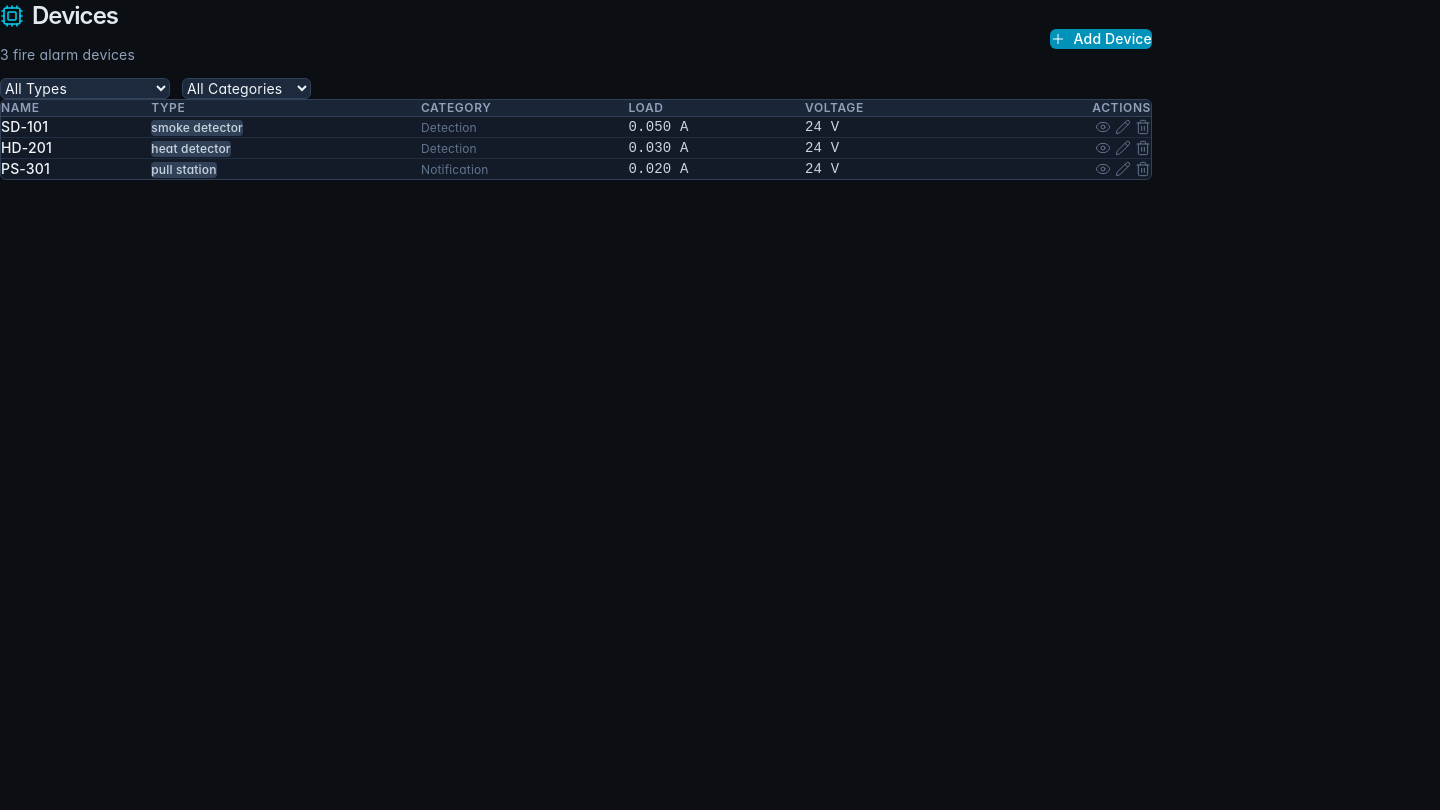
DevicesPage › opens create modal on Add Device button click
Click the button "Add Device" at (1101, 39), box 1050,29 -> 1152,49
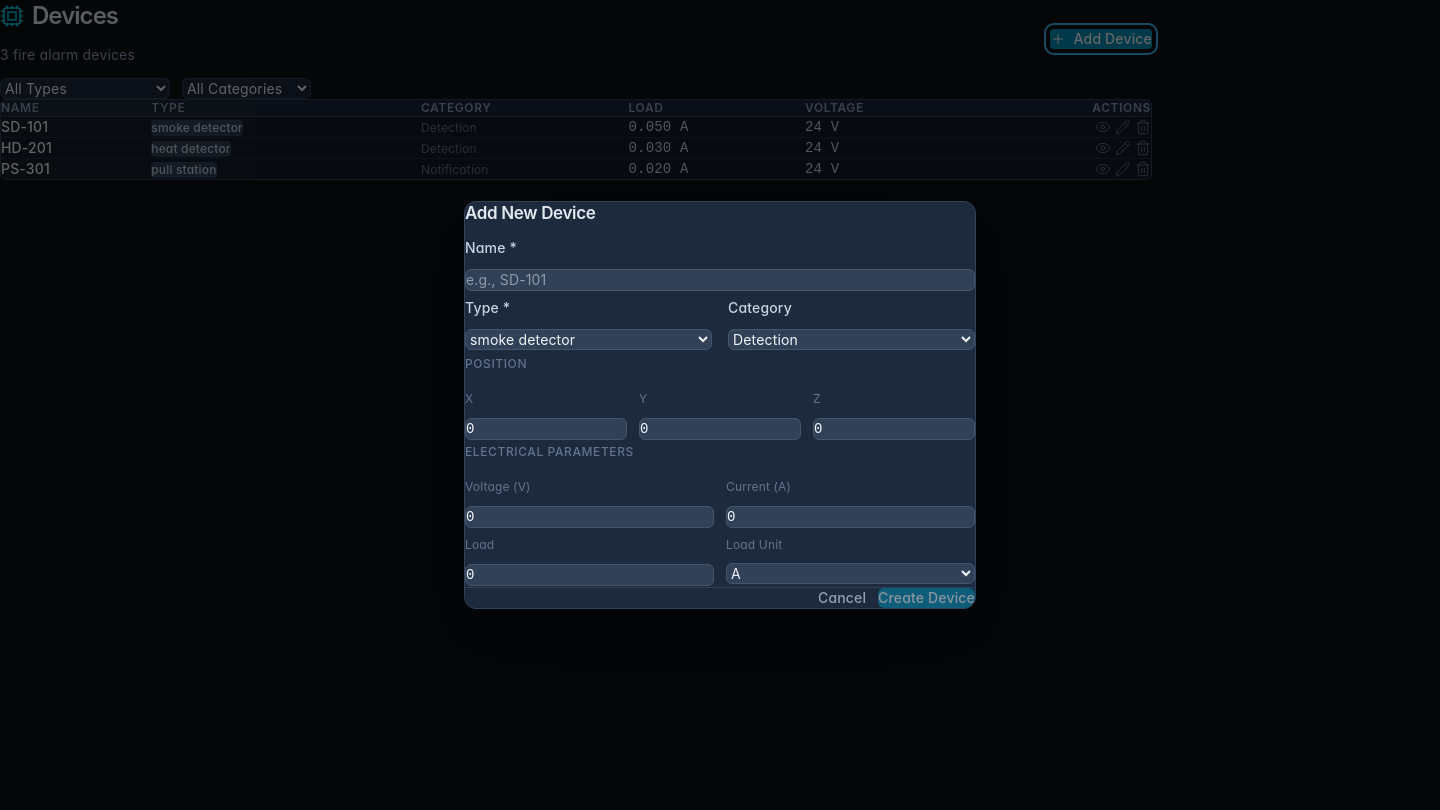
Expected: the heading "Add New Device" is shown, 465,203 -> 596,223
Expected: the button "Create Device" is shown, 878,588 -> 975,608
